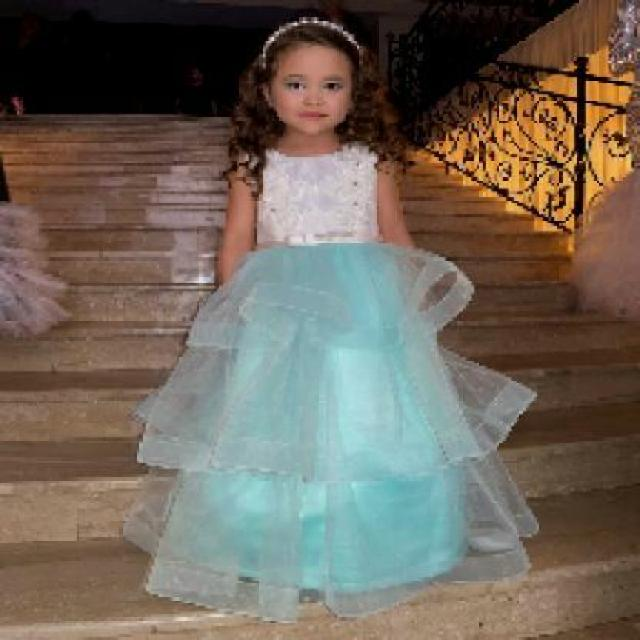child: (143, 11, 503, 603)
